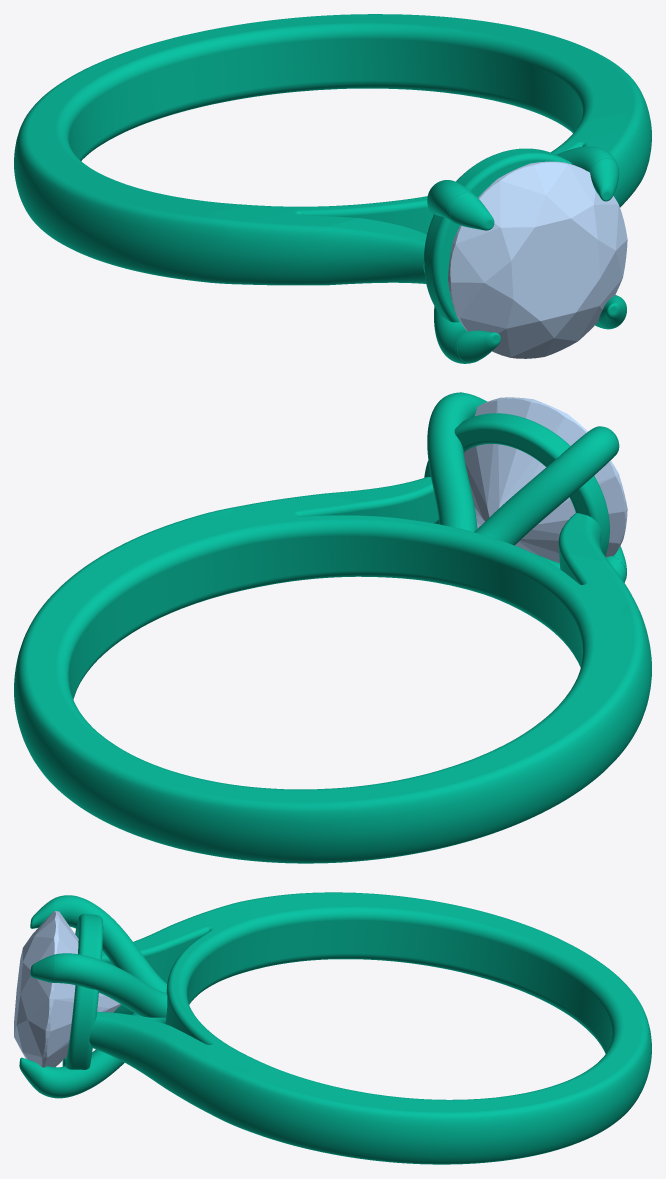
3 renders of one model, top to bottom at view 1: azimuth 30°, elevation 25°; view 2: azimuth 150°, elevation 25°; view 3: azimuth 270°, elevation 25°, orthographic. The views are drawn at different scales.
Visible parts, largest first — view 1: VR346(base).3dm, Diamond_Round; view 2: VR346(base).3dm, Diamond_Round; view 3: VR346(base).3dm, Diamond_Round.
Boxes of the visible parts, x1,y1,x2,y2 form: VR346(base).3dm: (14,14,651,363); Diamond_Round: (448,161,627,358); VR346(base).3dm: (14,392,651,863); Diamond_Round: (464,397,627,562); VR346(base).3dm: (19,892,651,1164); Diamond_Round: (14,911,121,1067).
Bounding box in the file's own units: 2.5 × 0.8328 × 3.01.
